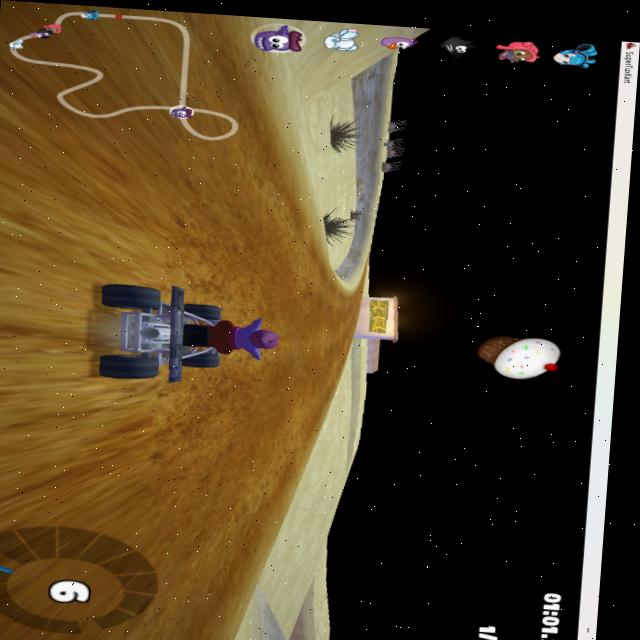player_kart: (79, 276, 272, 392)
track: (0, 0, 248, 287), (0, 375, 264, 640), (0, 273, 85, 385), (267, 293, 352, 386), (257, 384, 314, 505), (234, 207, 309, 282), (236, 125, 280, 212), (253, 507, 289, 561), (231, 278, 351, 292), (350, 271, 371, 338), (243, 88, 268, 129), (275, 181, 309, 211), (307, 261, 331, 282)
